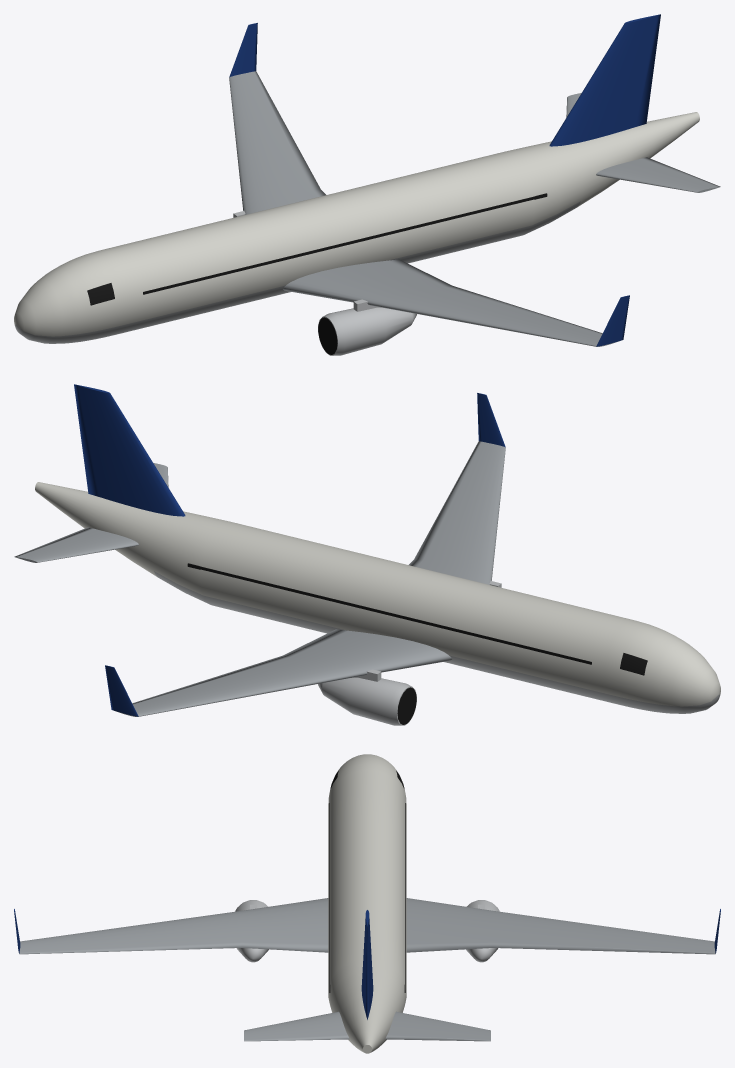
3 views of the same model, one above another, from view 1: azimuth 30°, elevation 25°; view 2: azimuth 150°, elevation 25°; view 3: azimuth 270°, elevation 25° (orthographic). The views are drawn at different scales.
Visible parts, largest first — view 1: a320; view 2: a320; view 3: a320.
Boxes of the visible parts, bbox=[...] form: a320: bbox=[14, 14, 720, 355]; a320: bbox=[14, 384, 720, 725]; a320: bbox=[14, 754, 720, 1053].
Bounding box in the file's own units: 37.57 × 10.62 × 35.61.
